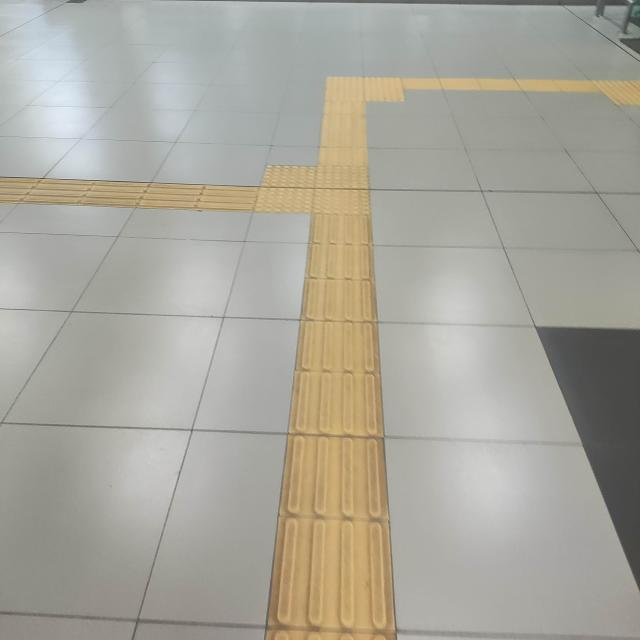kanan: (310, 52, 468, 125)
